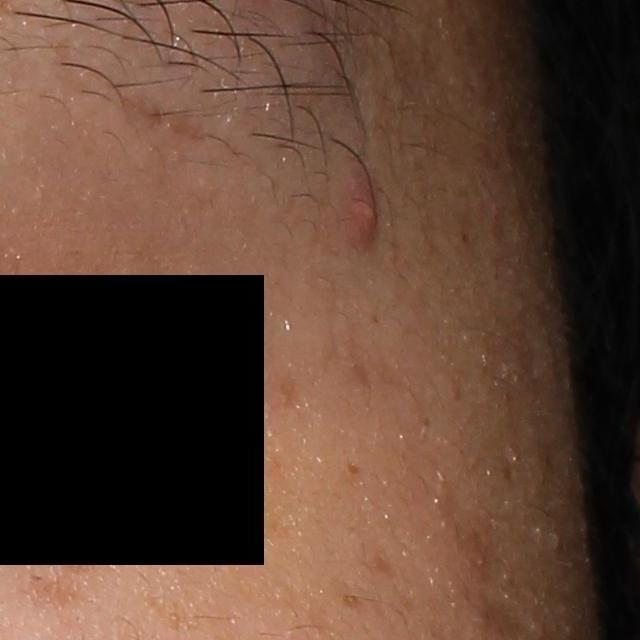melasma: (434, 460, 482, 592), (20, 574, 86, 616), (138, 596, 200, 639), (277, 364, 302, 422), (351, 355, 367, 401)
